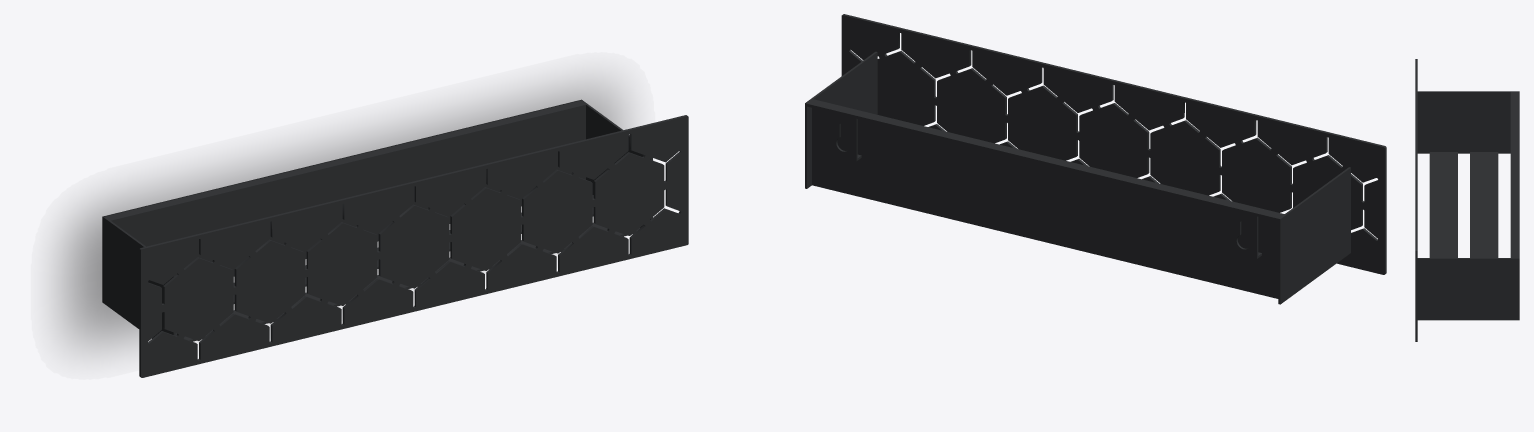
Rendered from bee-mono.8a32099b5a.ar.glb.
3 views of the same model, side by side, from view 1: azimuth 30°, elevation 25°; view 2: azimuth 150°, elevation 25°; view 3: azimuth 270°, elevation 25° (orthographic). The views are drawn at different scales.
Parts seen in each view (by area): view 1: NAUO1, object 2; view 2: NAUO1; view 3: NAUO1.
Part boxes in pixels (<box>): NAUO1: <box>102,99,688,377</box>; object 2: <box>57,82,627,349</box>; NAUO1: <box>805,14,1386,304</box>; NAUO1: <box>1415,59,1519,341</box>.
Bounding box in the file's own units: 0.48 × 0.17 × 0.092.
2 materials, 1 textured.
